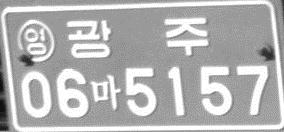0: (21, 70, 52, 119)
1: (160, 65, 193, 116)
5: (199, 65, 233, 116), (124, 66, 157, 117)
6: (55, 67, 88, 119)
7: (235, 64, 268, 116)
광주_D: (65, 17, 209, 61)
마: (90, 74, 121, 111)
영: (17, 19, 55, 63)
